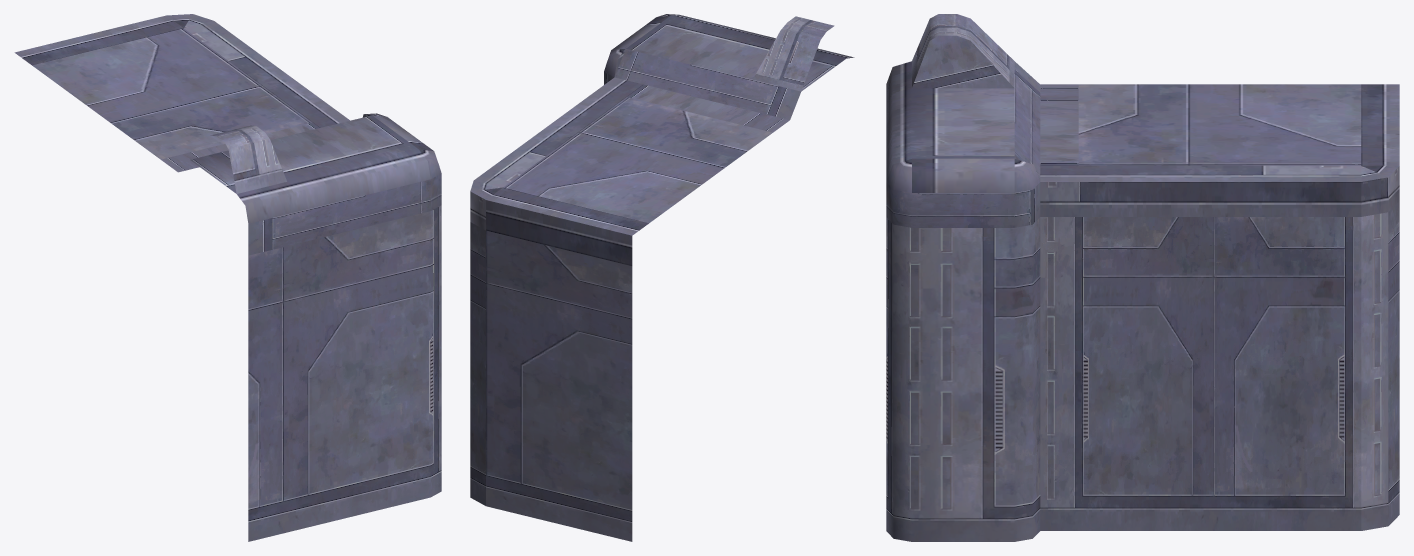
Rendered from all_arch_imp_wallset_h3m_cap_right.glb.
The picture shows the model from 3 angles, left to right: view 1: azimuth 30°, elevation 25°; view 2: azimuth 150°, elevation 25°; view 3: azimuth 270°, elevation 25°; orthographic projection. The views are drawn at different scales.
Visible parts, largest first — view 1: all_arch_imp_wallset_h3m_cap_right; view 2: all_arch_imp_wallset_h3m_cap_right; view 3: all_arch_imp_wallset_h3m_cap_right.
Part boxes in pixels (x1,y1,x2,y2): all_arch_imp_wallset_h3m_cap_right: [14, 14, 441, 541]; all_arch_imp_wallset_h3m_cap_right: [470, 14, 854, 541]; all_arch_imp_wallset_h3m_cap_right: [886, 14, 1399, 541].
Bounding box in the file's own units: 0.2 × 0.3605 × 0.4.
Materials: 1 (1 with a texture image).
